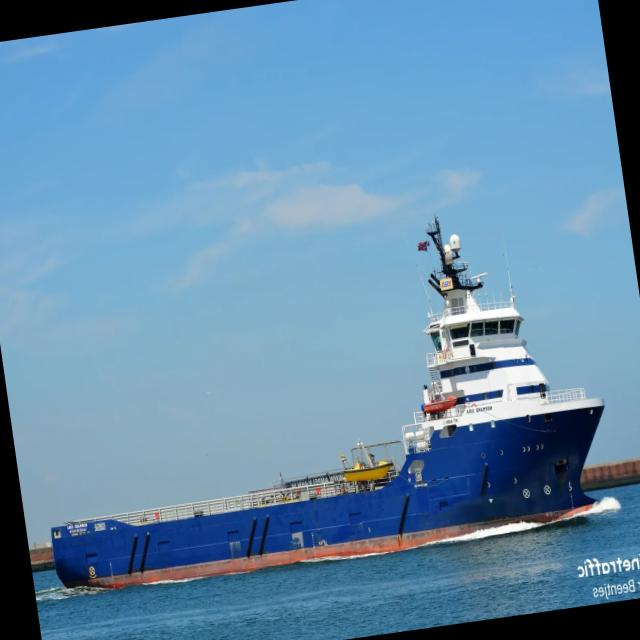Offshore: (52, 218, 604, 588)
